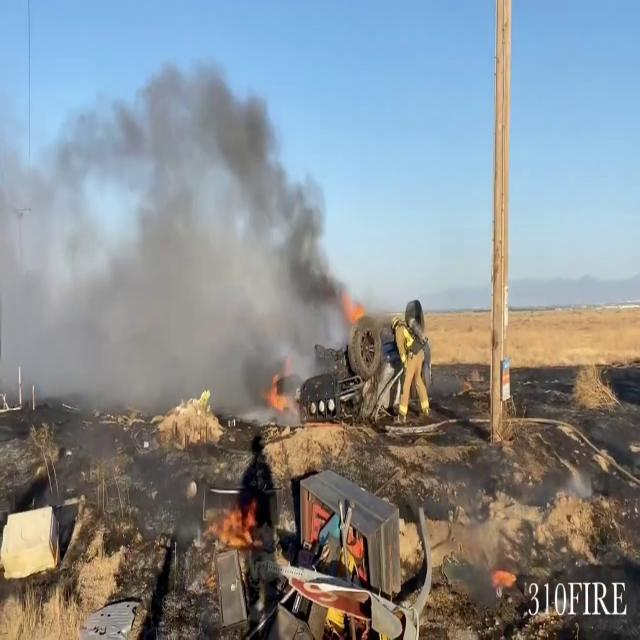Smoke: (0, 47, 366, 408)
